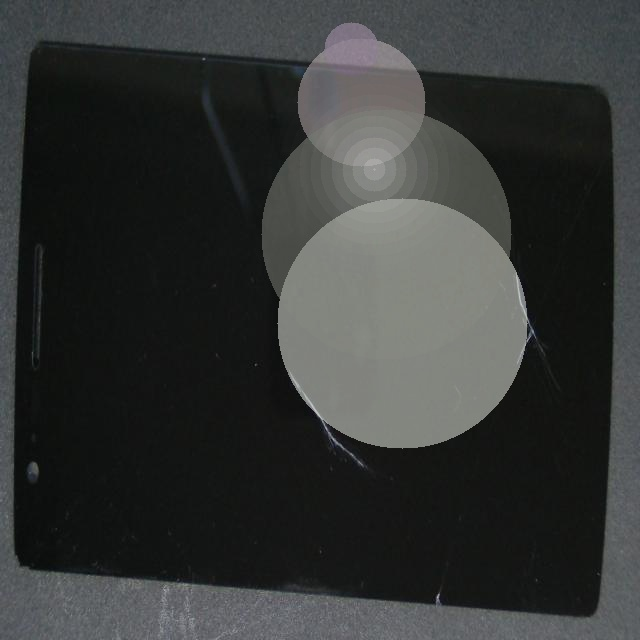scratch: (254, 162, 640, 541), (147, 208, 453, 519)
